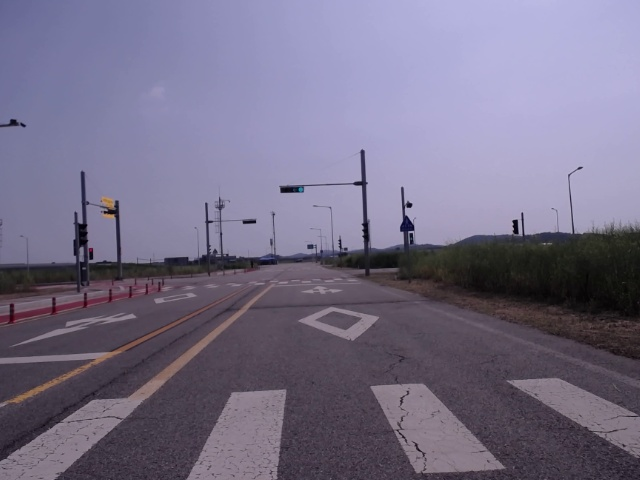straight_green_4: (277, 186, 306, 192)
